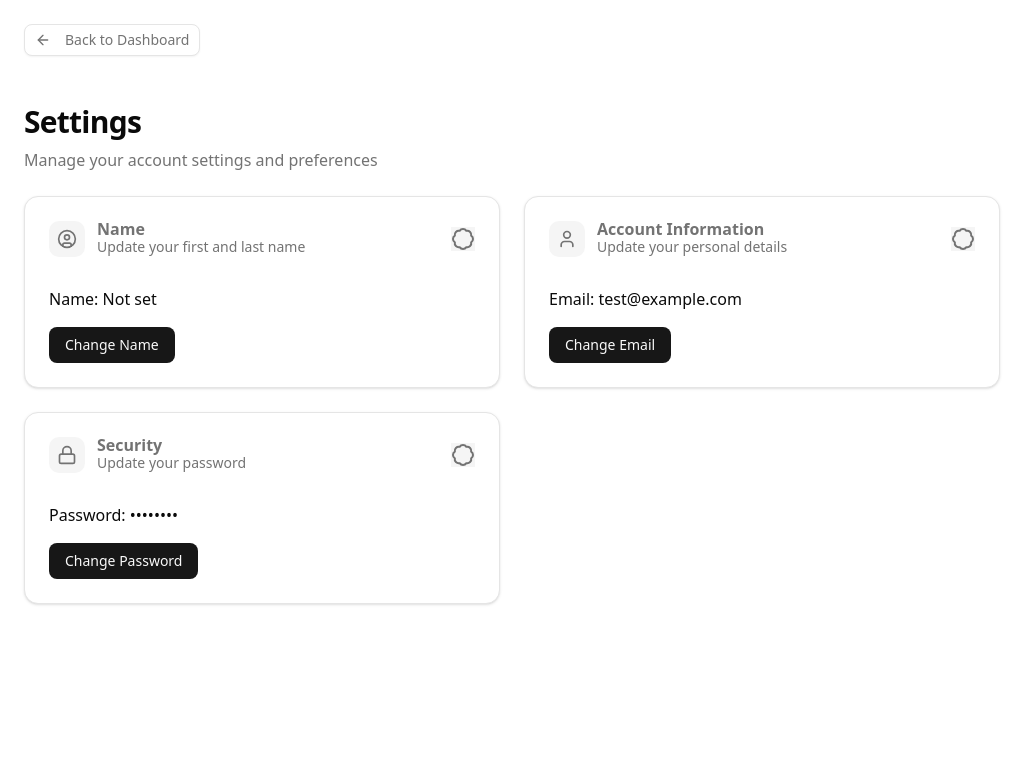
Test: Settings Page - Email Update Functionality › successfully updates email when valid email and password are provided
Click the button "Change Email". click: point(610, 345)
box: [549,327,671,363]
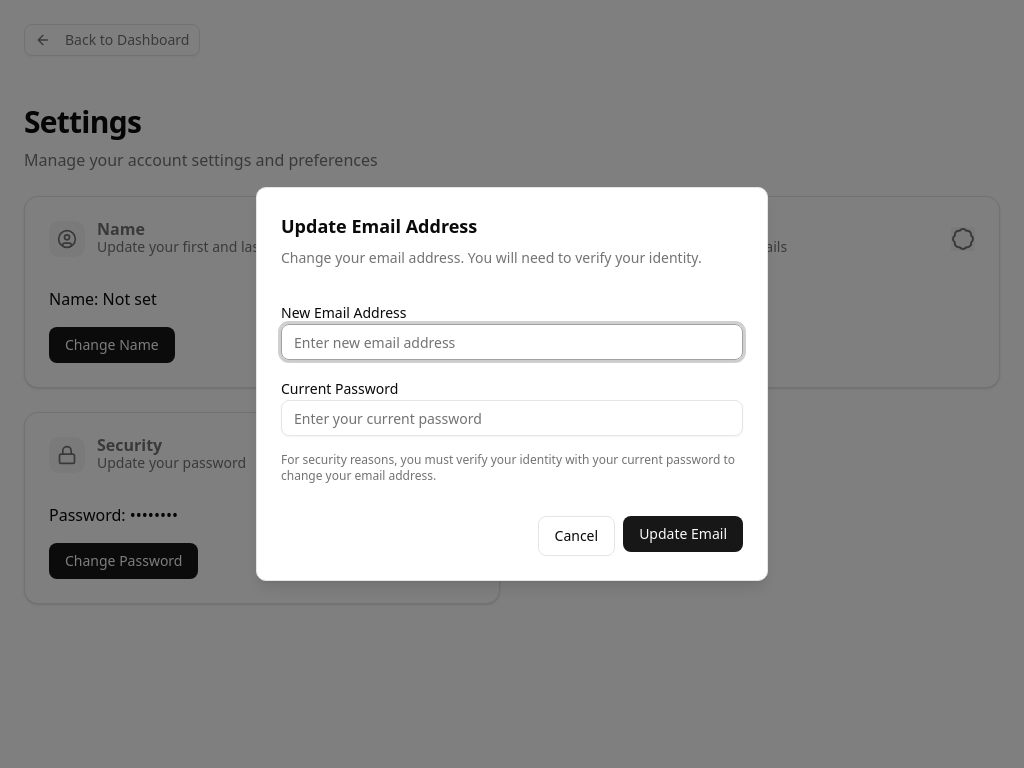
Type "newemail@example.com" into the field with placeholder "Enter new email address". click: point(512, 342)
box: [281,324,743,360]
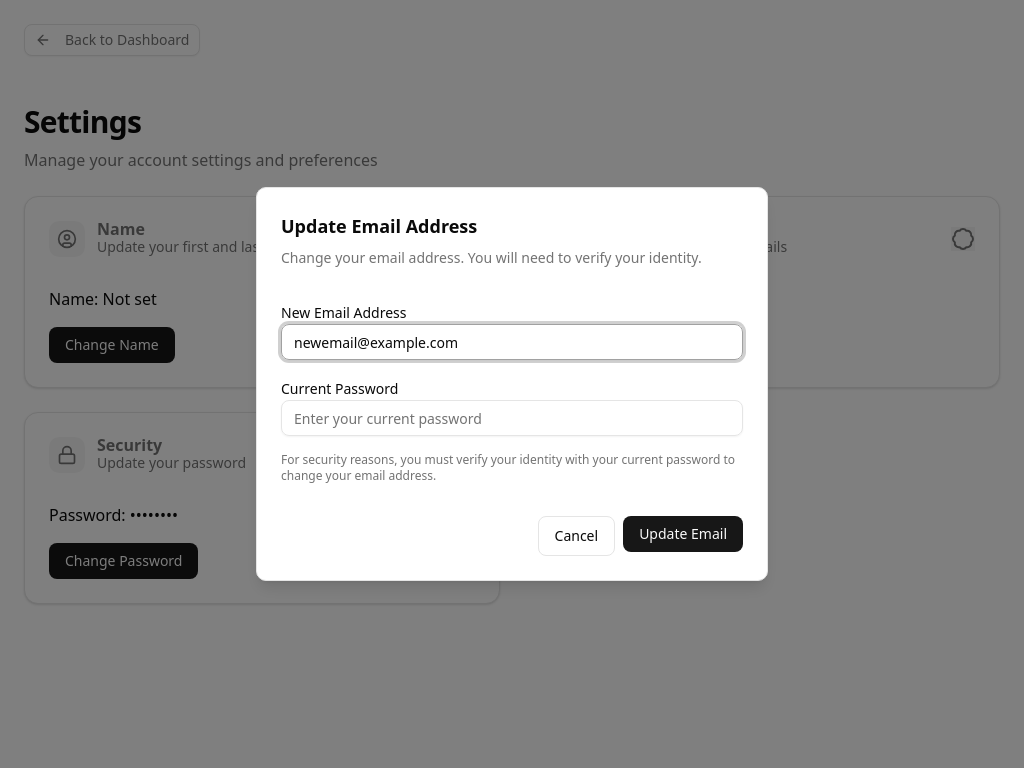
Type "mypassword123" into the password field with placeholder "Enter your current password". click: point(512, 418)
box: [281,400,743,436]
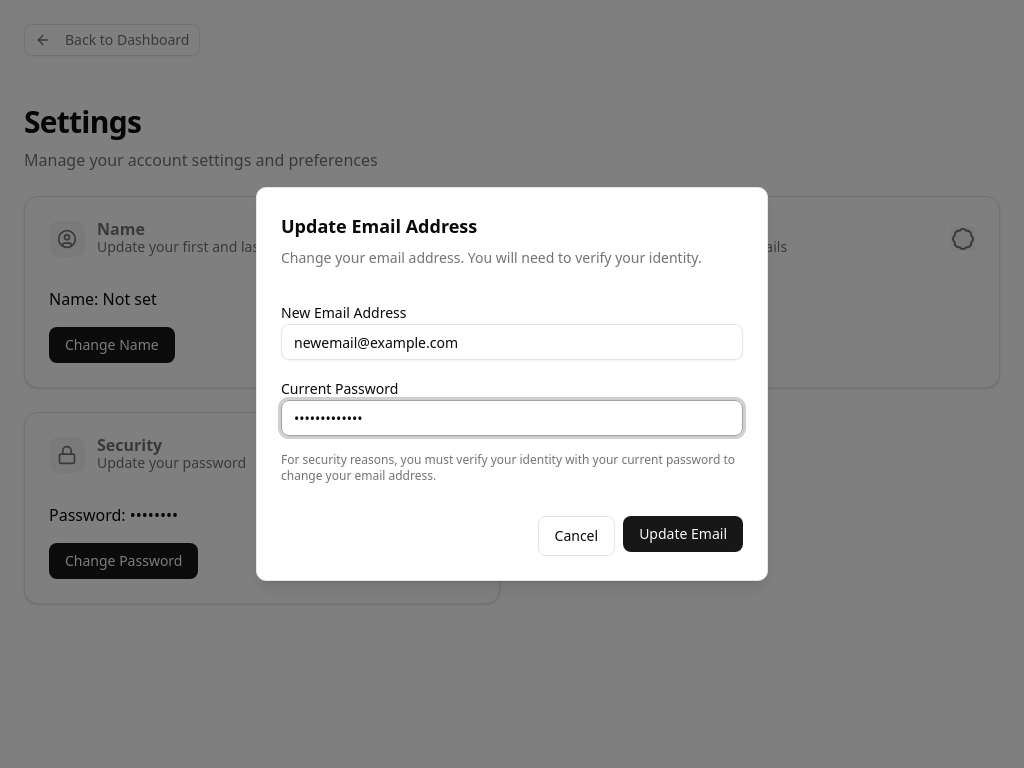
Click the button "Update Email". click: point(683, 534)
box: [623,516,743,552]
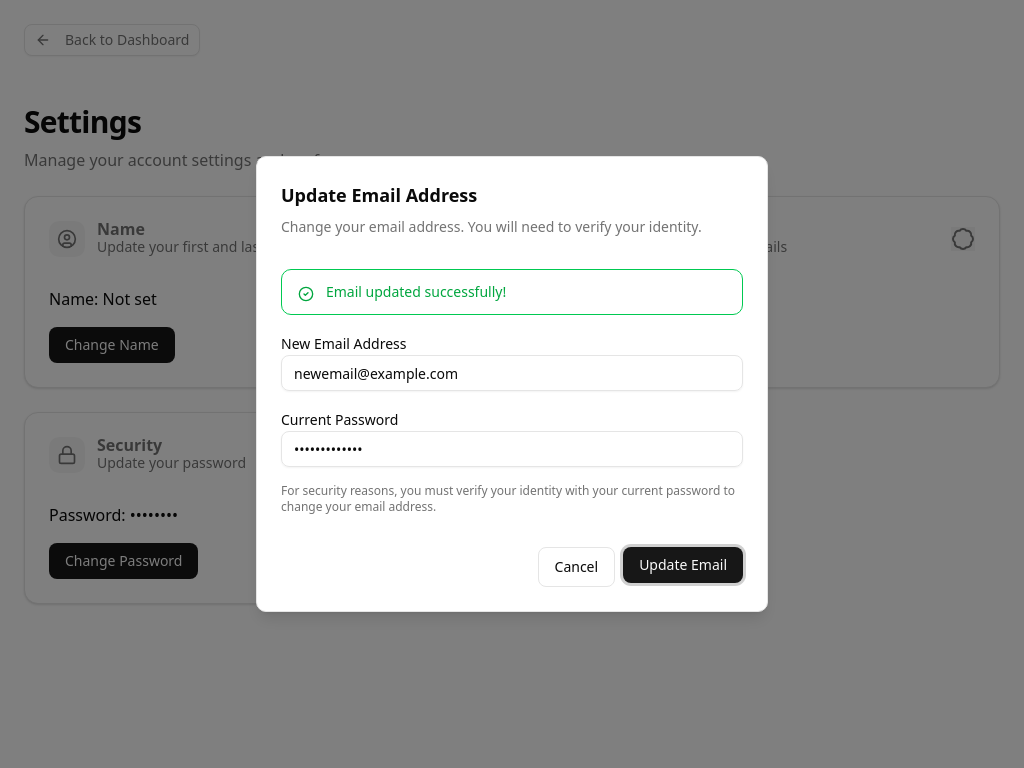
Now the text "Email updated successfully!" is shown, box [326,282,506,302]
